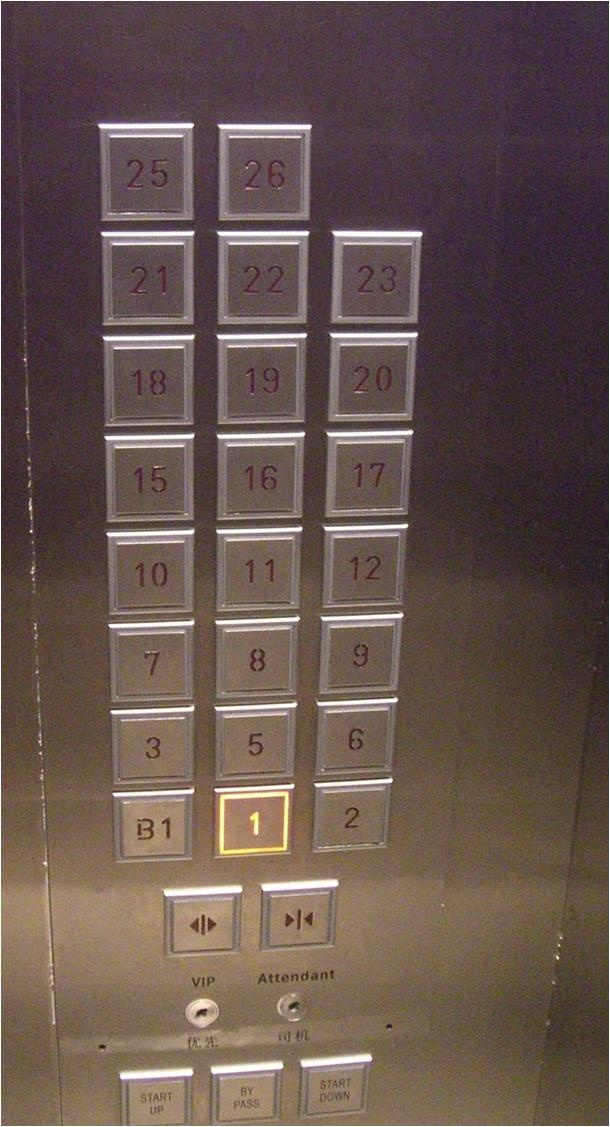1: (214, 783, 294, 860)
10: (107, 527, 196, 616)
11: (213, 524, 300, 613)
12: (320, 523, 408, 610)
15: (102, 433, 196, 523)
16: (214, 431, 305, 524)
17: (323, 428, 412, 520)
18: (99, 333, 197, 427)
19: (215, 331, 305, 425)
2: (311, 778, 392, 850)
20: (327, 331, 419, 421)
21: (100, 227, 196, 327)
22: (216, 230, 308, 325)
23: (329, 231, 423, 324)
25: (96, 121, 195, 221)
26: (217, 122, 312, 222)
3: (108, 705, 196, 785)
5: (212, 702, 298, 782)
6: (315, 696, 395, 774)
7: (106, 619, 194, 702)
8: (213, 616, 296, 700)
9: (318, 611, 401, 693)
B1: (110, 787, 195, 864)
close: (258, 879, 338, 953)
keyhole: (184, 998, 224, 1029), (277, 992, 311, 1023)
open: (161, 885, 243, 957)
text: (210, 1060, 284, 1124), (299, 1053, 372, 1117), (117, 1069, 195, 1126)
